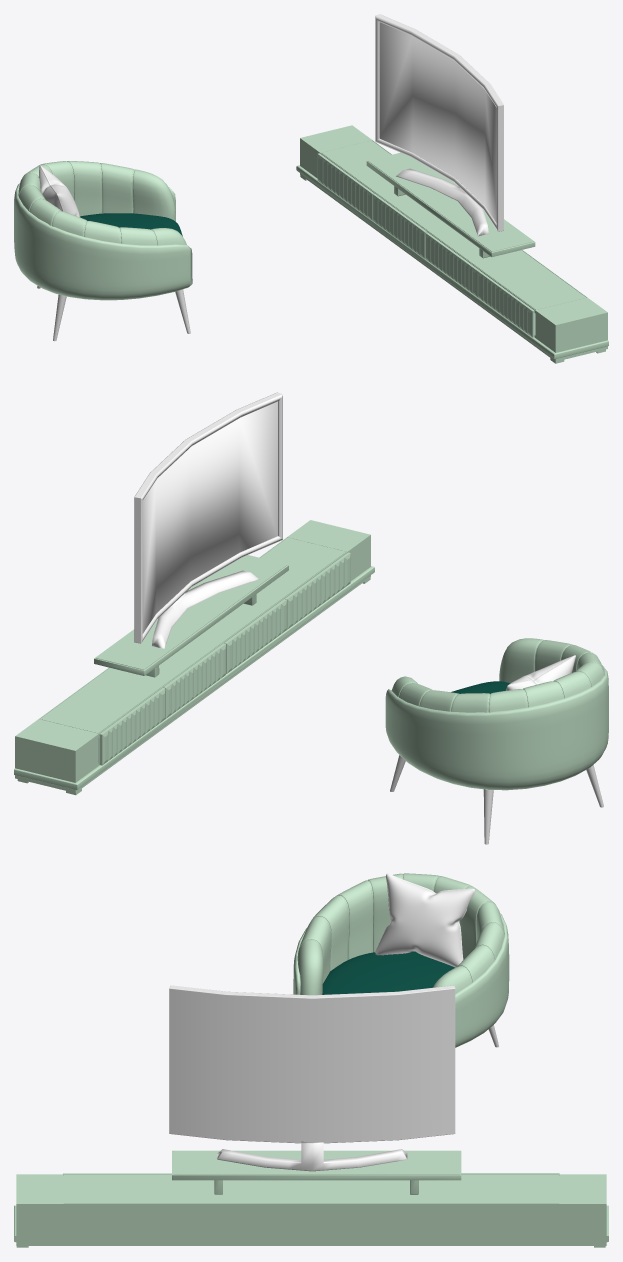
Rendered from meme_secondfloor.glb.
3 renders of one model, top to bottom at view 1: azimuth 30°, elevation 25°; view 2: azimuth 150°, elevation 25°; view 3: azimuth 270°, elevation 25°, orthographic. The views are drawn at different scales.
Parts seen in each view (by area): view 1: drawer, tv, Object_4, Object_6, Object_8, Object_12, Object_10; view 2: drawer, tv, Object_4, Object_6, Object_12, Object_10; view 3: drawer, tv, Object_6, Object_12, Object_8, Object_4.
Part boxes in pixels (<box>): drawer: <box>296,125,608,363</box>; tv: <box>375,14,503,236</box>; Object_4: <box>14,183,192,300</box>; Object_6: <box>18,161,186,245</box>; Object_8: <box>80,213,182,236</box>; Object_12: <box>38,165,79,217</box>; Object_10: <box>37,286,190,341</box>; drawer: <box>14,520,374,795</box>; tv: <box>134,392,282,648</box>; Object_4: <box>385,665,608,790</box>; Object_6: <box>391,638,604,712</box>; Object_12: <box>506,655,575,690</box>; Object_10: <box>390,755,603,844</box>; drawer: <box>14,1150,608,1247</box>; tv: <box>169,985,455,1171</box>; Object_6: <box>297,873,504,995</box>; Object_12: <box>375,873,475,967</box>; Object_8: <box>322,951,454,994</box>; Object_4: <box>293,913,509,1047</box>.
Size of the model in its own units: 1.79 by 0.8606 by 1.93.
